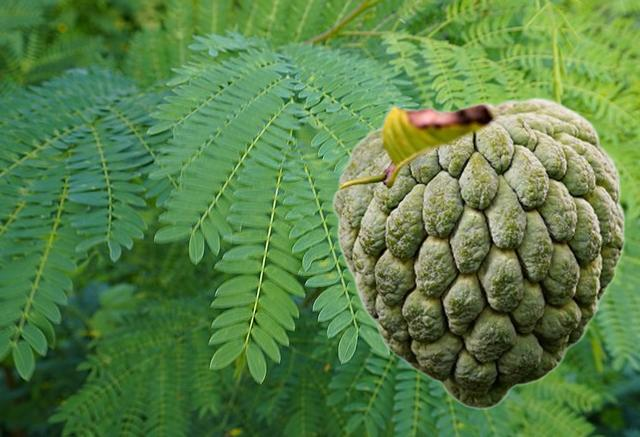atis: (331, 96, 624, 408)
